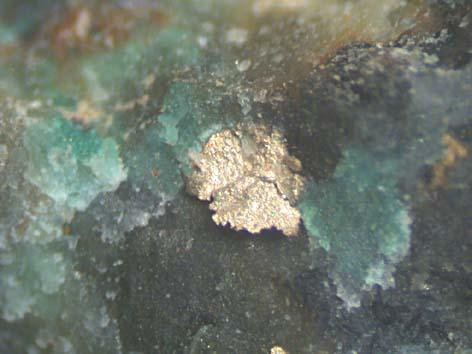silver: (189, 123, 304, 235)
